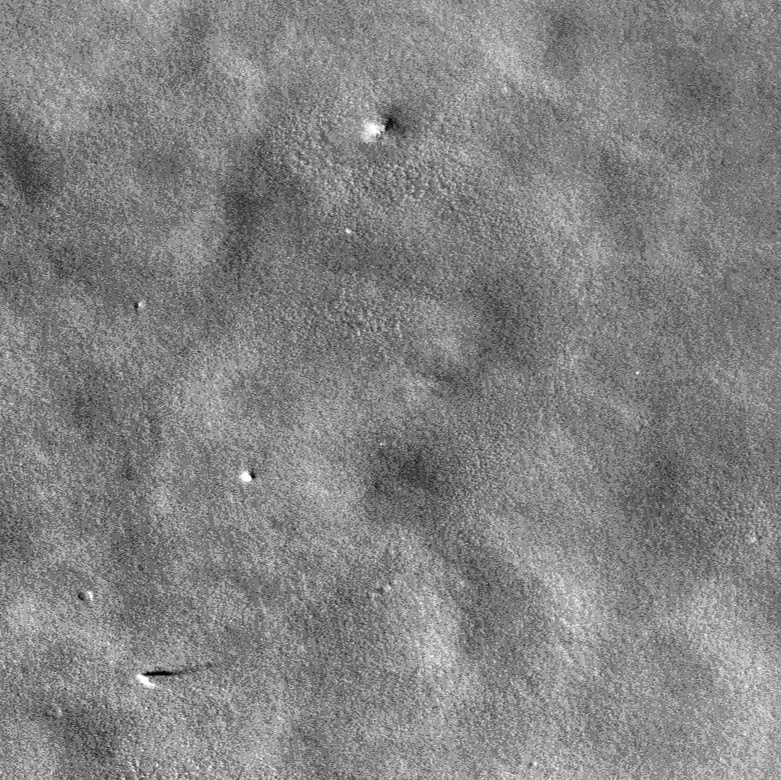dust_devil: (133, 667, 194, 689)
